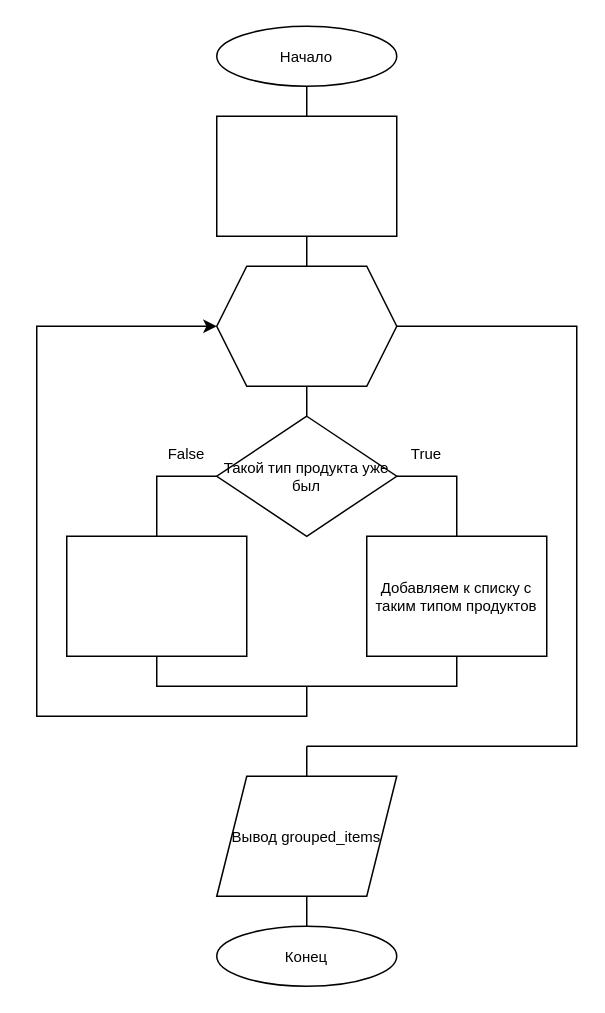
Some shapes in this 605 by 1013 pixel diagram are drawn without their labels. The shapes that lost their labels are listed below. From the top down, each one's centre as x and y in pixels, then its label:
(x=306, y=175): Список items, словарь grouped_items
(x=306, y=325): Перебор элементов из items
(x=156, y=595): Создание пустого списка под этот тип и добавление туда нового элемнта
